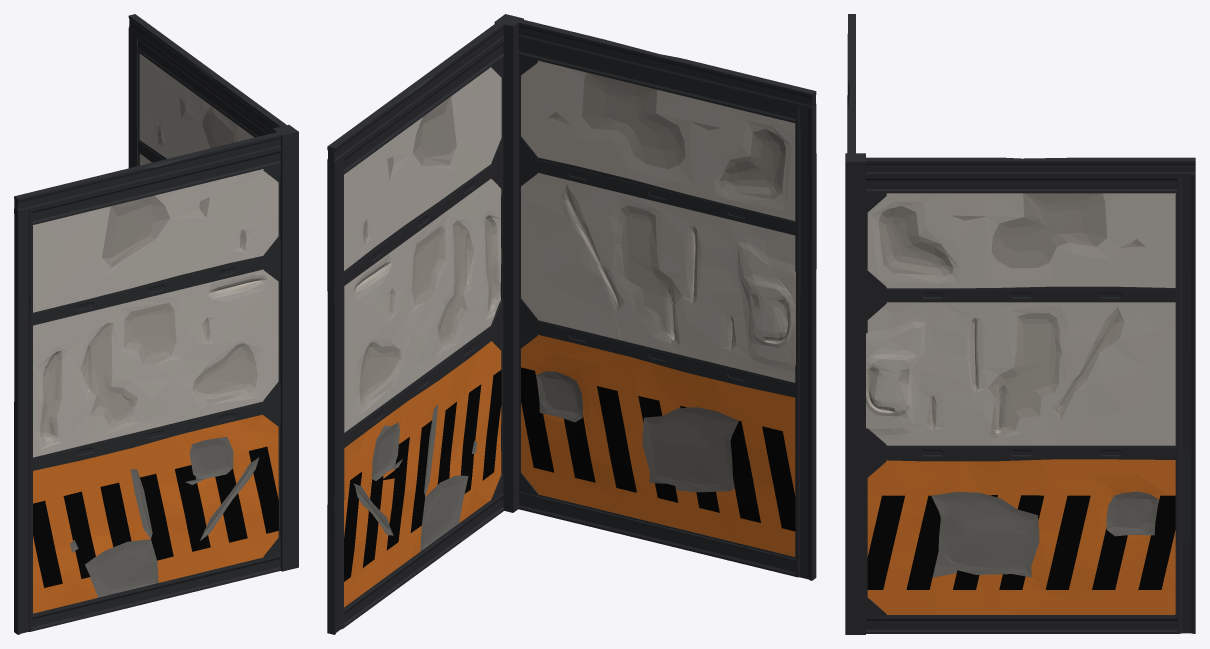
File: SM_Wall_Angle_Broken_03.gltf
3 renders of one model, left to right at view 1: azimuth 30°, elevation 25°; view 2: azimuth 150°, elevation 25°; view 3: azimuth 270°, elevation 25°, orthographic. The views are drawn at different scales.
Parts seen in each view (by area): view 1: SM_Wall_Angle_Broken_03; view 2: SM_Wall_Angle_Broken_03; view 3: SM_Wall_Angle_Broken_03.
Part boxes in pixels (left/top/right/bottom): SM_Wall_Angle_Broken_03: left=14, top=14, right=298, bottom=634; SM_Wall_Angle_Broken_03: left=327, top=14, right=816, bottom=634; SM_Wall_Angle_Broken_03: left=845, top=14, right=1195, bottom=634.
Bounding box in the file's own units: 2.01 × 3 × 2.01.
